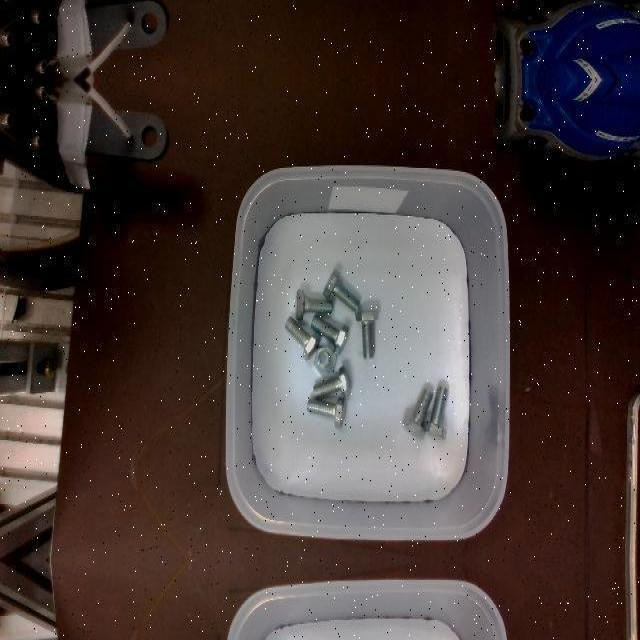screw: (323, 268, 360, 312), (311, 315, 350, 355), (402, 388, 433, 438), (285, 317, 320, 361), (422, 385, 448, 439), (312, 364, 350, 398), (307, 396, 346, 428), (296, 289, 333, 319), (355, 311, 378, 359), (313, 344, 337, 376)
